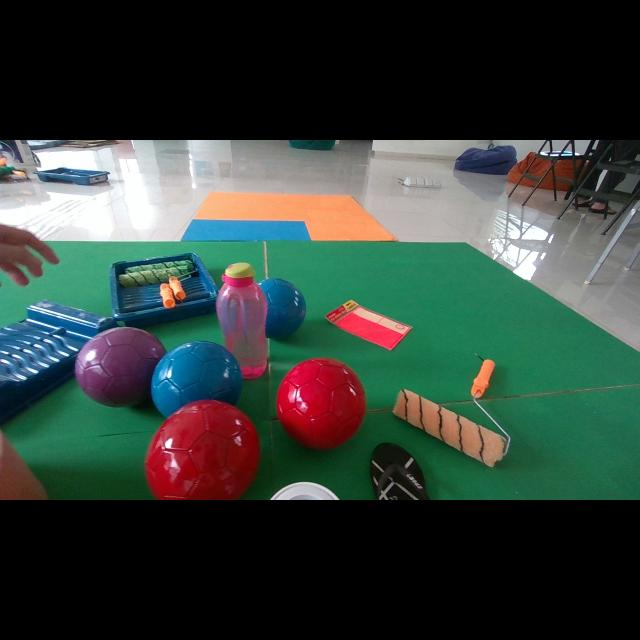B: (151, 341, 242, 416), (259, 278, 306, 339)
P: (75, 328, 165, 406)
R: (145, 400, 260, 499), (278, 358, 365, 449)
